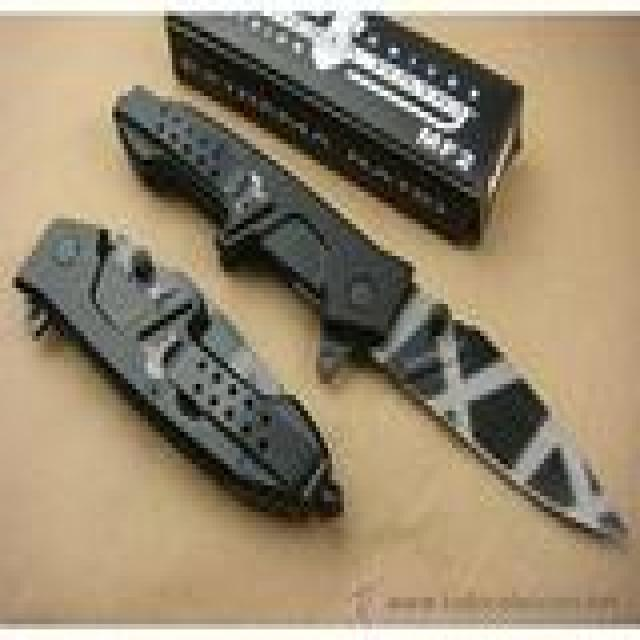Knife: (94, 61, 631, 556)
